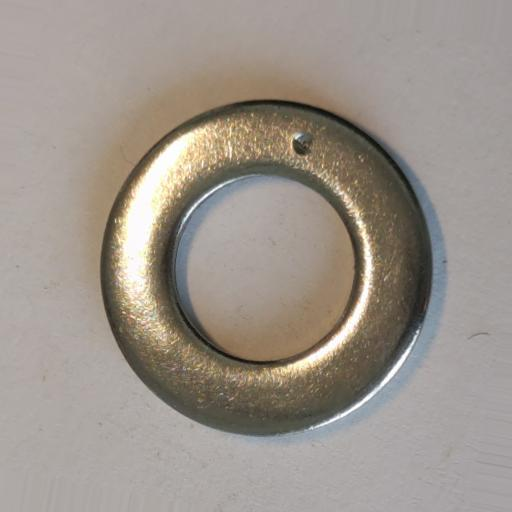circular_cavity: (291, 132, 315, 156)
